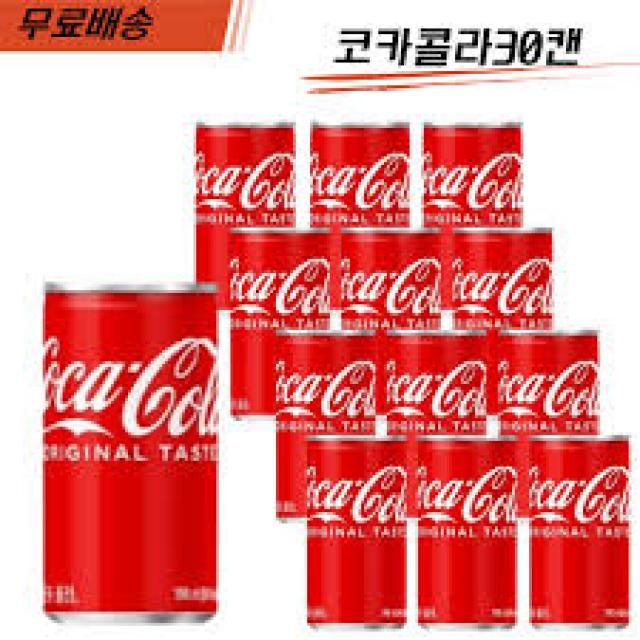Coca-Cola: (32, 267, 230, 626), (492, 309, 610, 522), (519, 428, 636, 635), (299, 428, 415, 633), (223, 211, 334, 423), (185, 115, 304, 312), (415, 428, 526, 634), (307, 108, 419, 311), (338, 211, 444, 425), (384, 313, 492, 522), (423, 109, 531, 315), (268, 318, 378, 520), (454, 214, 562, 418)
